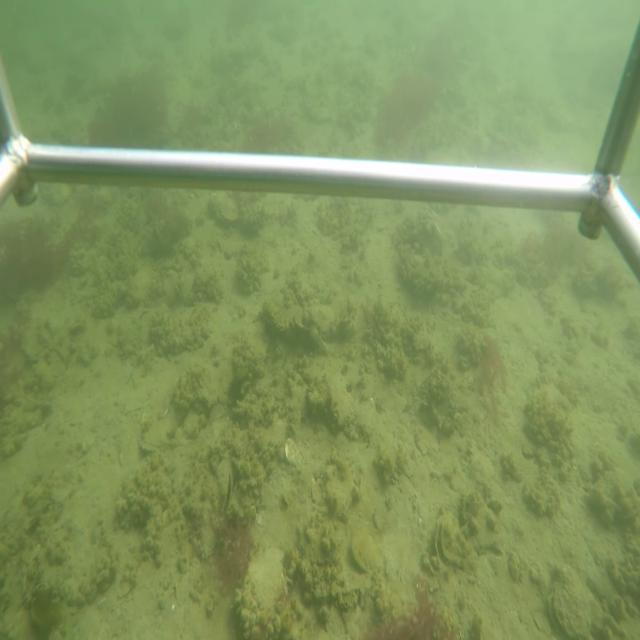Oyster-Closed: (260, 271, 359, 341)
Oyster-Open: (546, 559, 594, 640), (433, 510, 480, 581), (214, 455, 236, 516)
